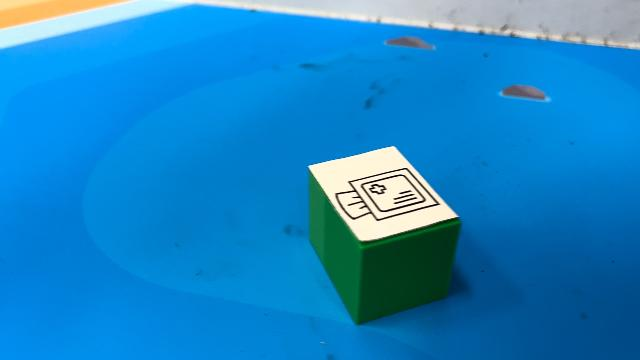napkin: (306, 148, 459, 328)
